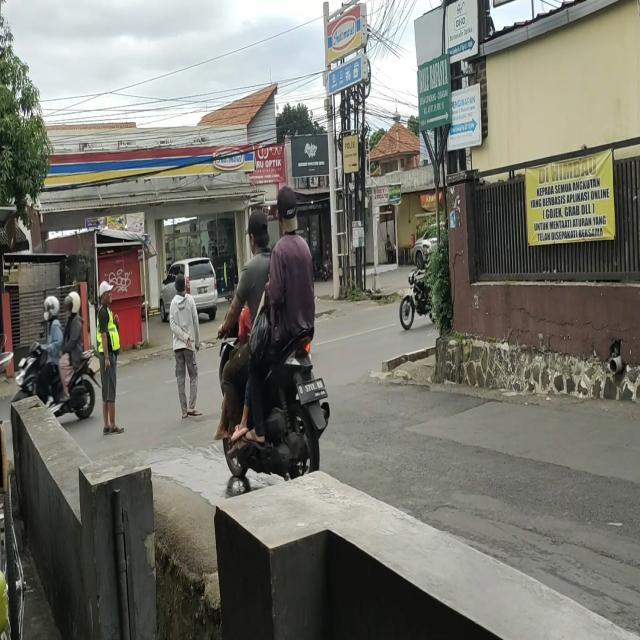helmet: (44, 296, 57, 320), (68, 293, 80, 314)
no-helmet: (248, 212, 268, 252), (278, 188, 296, 228)
